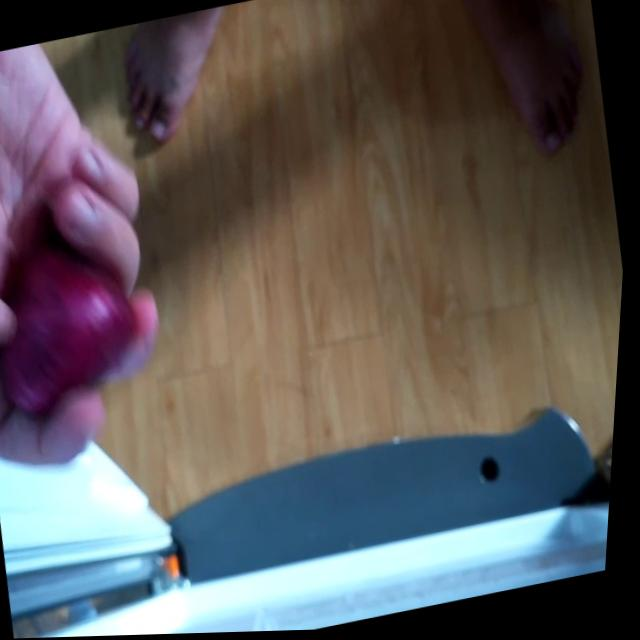onion: (0, 198, 165, 431)
